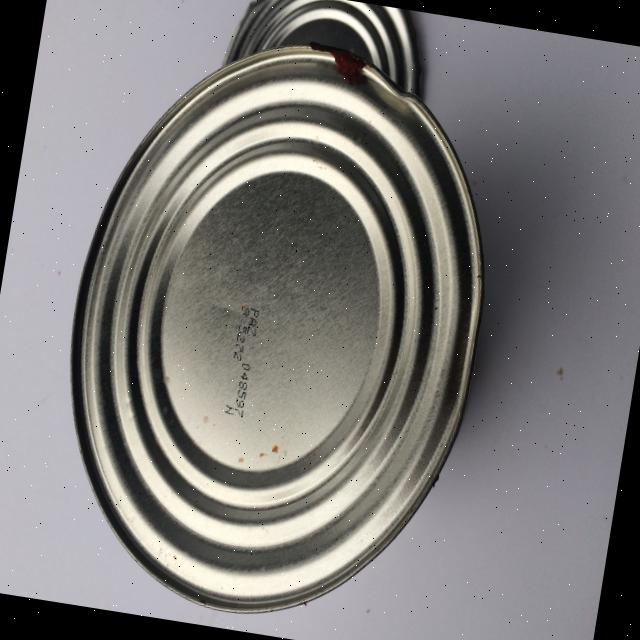metal: (31, 9, 521, 640)
